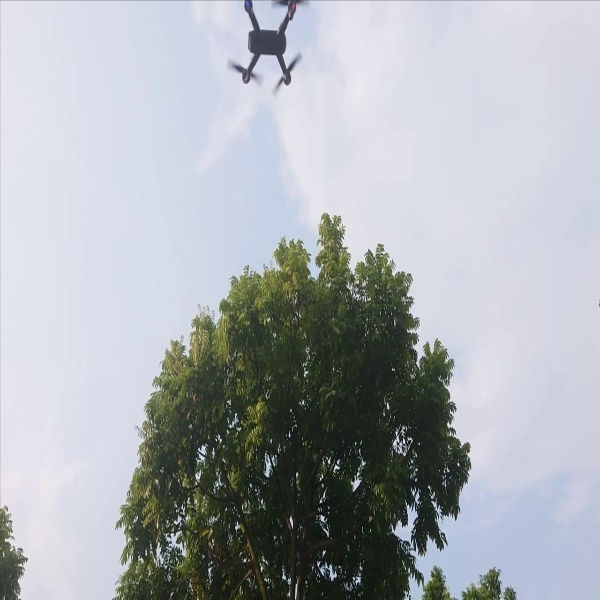drone: (220, 1, 305, 101)
